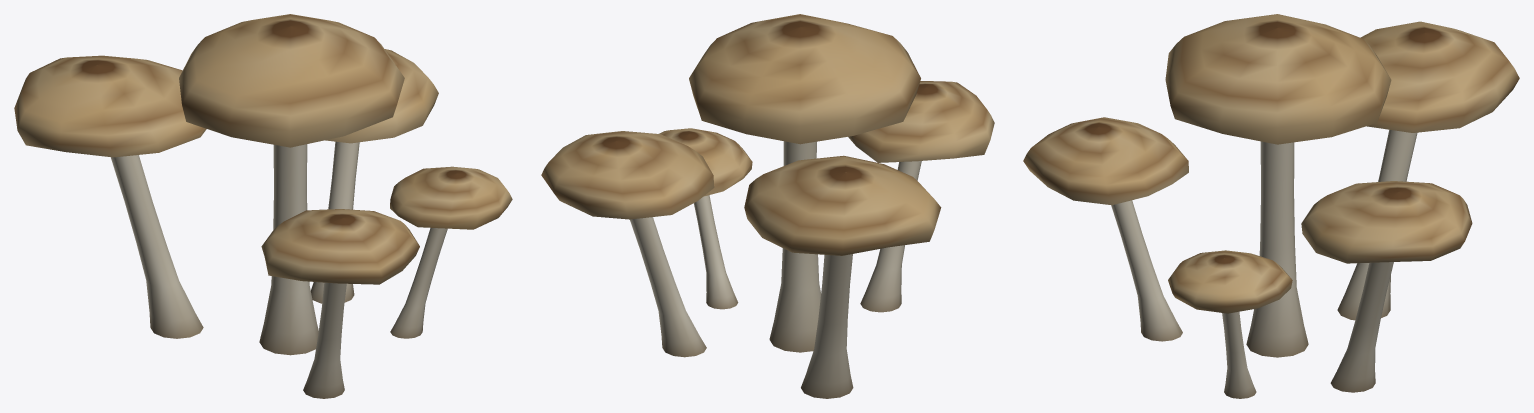
The model's file is mushroom-parasol-cluster.glb.
3 views of the same model, side by side, from view 1: azimuth 30°, elevation 25°; view 2: azimuth 150°, elevation 25°; view 3: azimuth 270°, elevation 25° (orthographic).
Parts seen in each view (by area): view 1: mushroom-parasol-cluster; view 2: mushroom-parasol-cluster; view 3: mushroom-parasol-cluster.
Boxes of the visible parts, x1=… form: mushroom-parasol-cluster: x1=14, y1=14, x2=512, y2=398; mushroom-parasol-cluster: x1=541, y1=14, x2=994, y2=398; mushroom-parasol-cluster: x1=1023, y1=14, x2=1519, y2=398.
Bounding box in the file's own units: 0.3255 × 0.25 × 0.3556.
